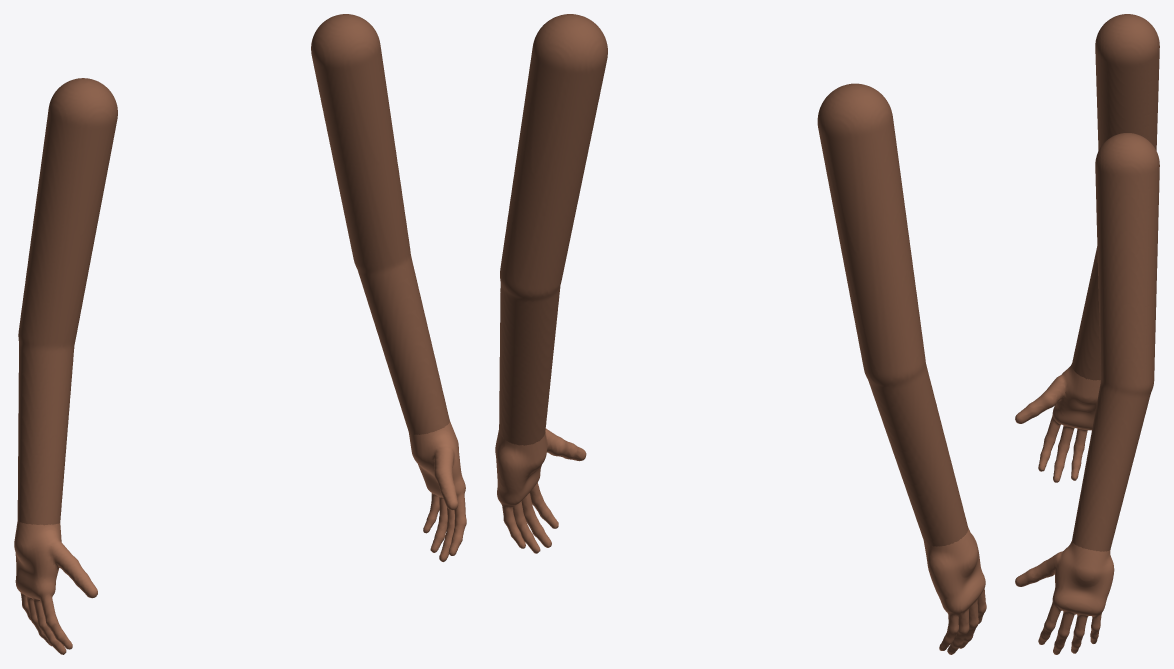
The model's file is hands-base.glb.
The picture shows the model from 3 angles, left to right: view 1: azimuth 30°, elevation 25°; view 2: azimuth 150°, elevation 25°; view 3: azimuth 270°, elevation 25°; orthographic projection. The views are drawn at different scales.
Visible parts, largest first — view 1: arms, hands; view 2: arms, hands; view 3: arms, hands.
Boxes of the visible parts, left/top/right/bottom form: arms: left=17, top=14, right=449, bottom=525; hands: left=14, top=421, right=466, bottom=654; arms: left=499, top=14, right=968, bottom=546; hands: left=495, top=428, right=986, bottom=654; arms: left=1072, top=14, right=1159, bottom=551; hands: left=1015, top=364, right=1114, bottom=654.
Bounding box in the file's own units: 0.6674 × 0.7721 × 0.2058.
